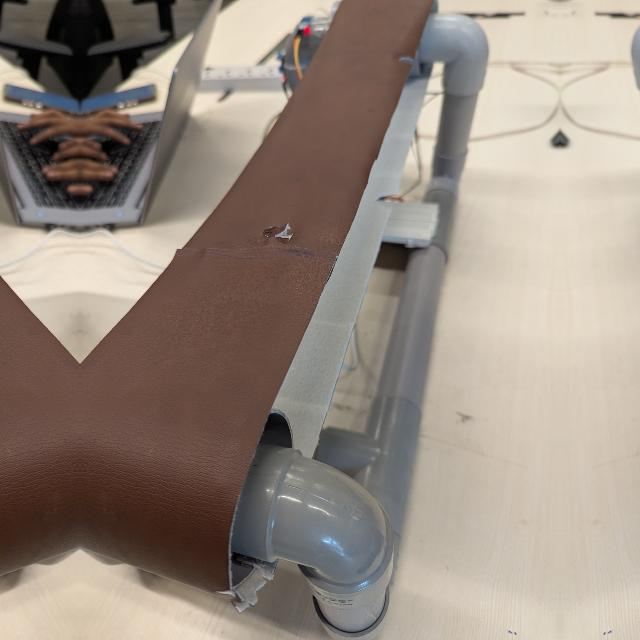joint_damage: (241, 208, 311, 259)
